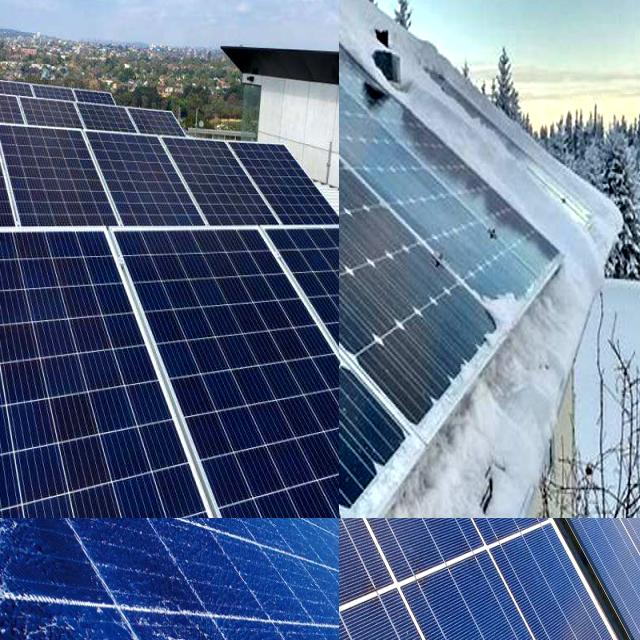crack: (0, 236, 195, 518), (124, 248, 339, 475), (383, 518, 606, 640), (260, 216, 339, 518), (149, 126, 290, 246), (0, 121, 128, 246), (77, 120, 209, 239), (222, 125, 339, 249), (339, 574, 525, 640), (0, 112, 66, 242), (6, 91, 97, 140), (0, 75, 38, 140), (0, 73, 39, 135)
panel: (472, 254, 530, 340)
